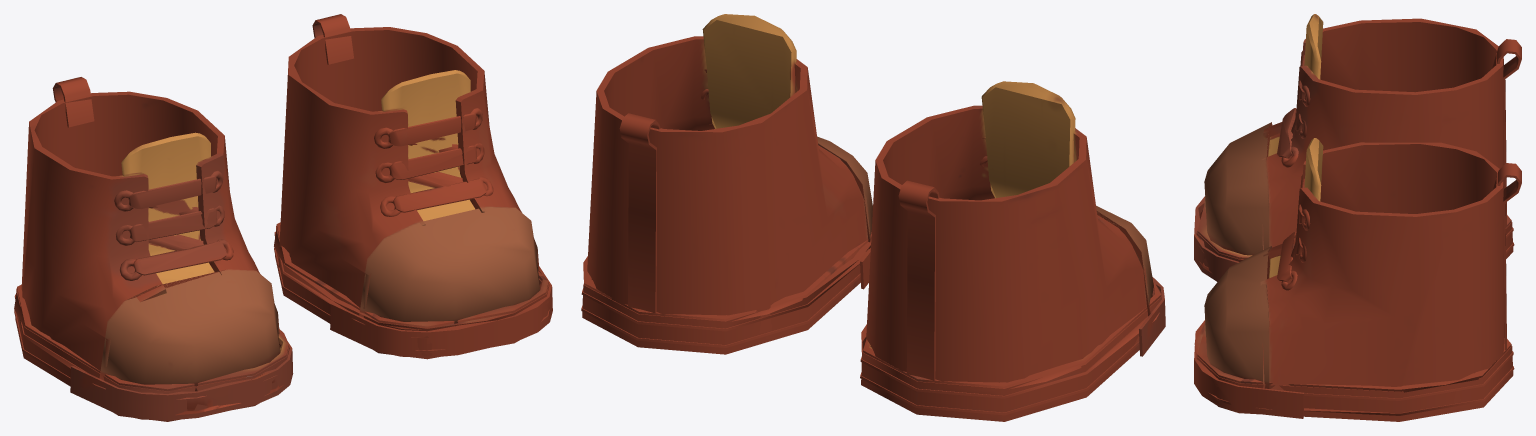
File: Costume04_weight_Boot .fbx
The picture shows the model from 3 angles, left to right: view 1: azimuth 30°, elevation 25°; view 2: azimuth 150°, elevation 25°; view 3: azimuth 270°, elevation 25°; orthographic projection. The views are drawn at different scales.
Parts seen in each view (by area): view 1: shoes; view 2: shoes; view 3: shoes.
Part boxes in pixels (x1,y1,x2,y2): shoes: (14,14,552,421); shoes: (581,14,1165,421); shoes: (1194,14,1521,421).
Bounding box in the file's own units: 454 × 219 × 286.
